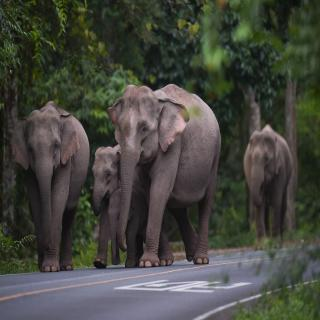Elephant: (108, 80, 224, 272), (7, 98, 91, 272), (90, 142, 172, 268), (243, 122, 294, 253)
